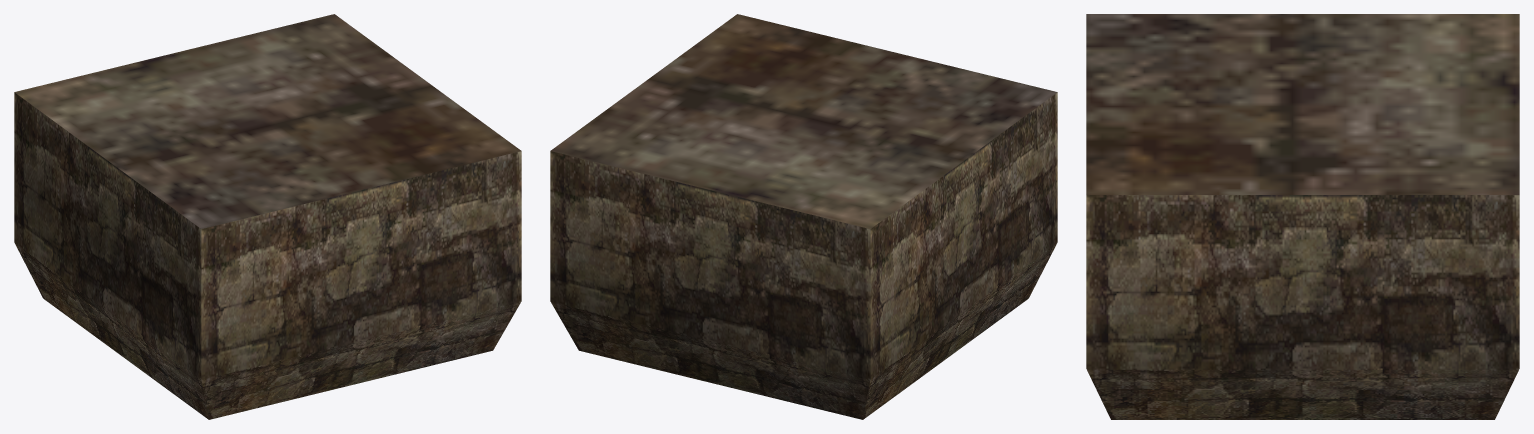
File: OZ_09_wv_T04wall02C.glb
The picture shows the model from 3 angles, left to right: view 1: azimuth 30°, elevation 25°; view 2: azimuth 150°, elevation 25°; view 3: azimuth 270°, elevation 25°; orthographic projection. The views are drawn at different scales.
Parts seen in each view (by area): view 1: OM_09_wv_T04wall02C; view 2: OM_09_wv_T04wall02C; view 3: OM_09_wv_T04wall02C.
Part boxes in pixels (x1,y1,x2,y2): OM_09_wv_T04wall02C: (14,14,521,419); OM_09_wv_T04wall02C: (550,14,1057,419); OM_09_wv_T04wall02C: (1086,14,1519,419).
Size of the model in its own units: 7.33 by 4.44 by 7.41.
Materials: 1 (1 with a texture image).
